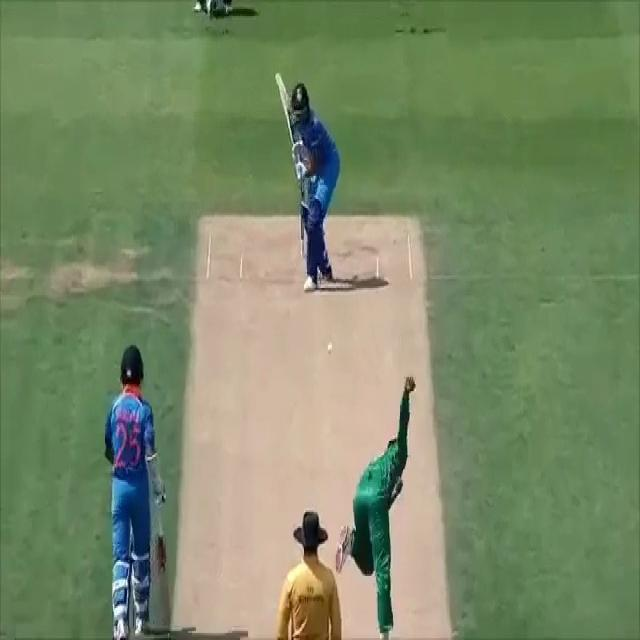cricketBall: (328, 340, 333, 352)
